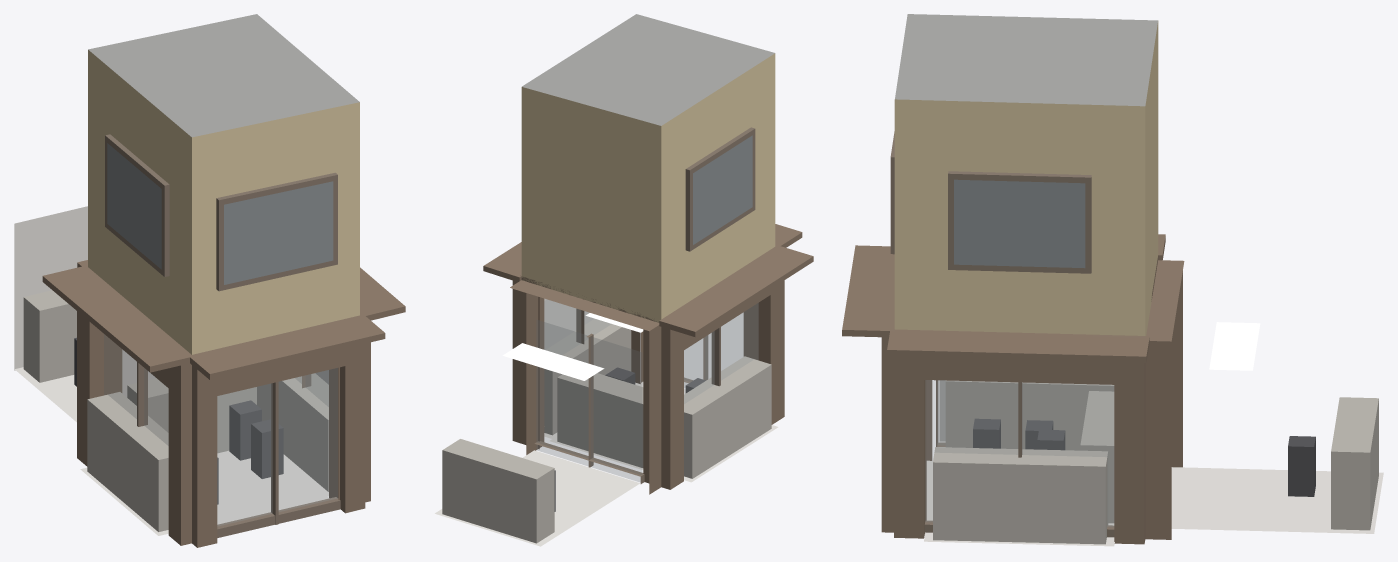
Rendered from d12-nonbei-w138670868-row.glb.
The picture shows the model from 3 angles, left to right: view 1: azimuth 30°, elevation 25°; view 2: azimuth 150°, elevation 25°; view 3: azimuth 270°, elevation 25°; orthographic projection. The views are drawn at different scales.
Parts seen in each view (by area): view 1: INFERRED_facade.001, INFERRED_ground.001; view 2: INFERRED_facade.001, INFERRED_ground.001; view 3: INFERRED_facade.001, INFERRED_ground.001.
Part boxes in pixels (bbox=[...]): INFERRED_facade.001: bbox=[14, 14, 405, 547]; INFERRED_ground.001: bbox=[104, 334, 337, 525]; INFERRED_facade.001: bbox=[435, 14, 813, 546]; INFERRED_ground.001: bbox=[502, 300, 758, 481]; INFERRED_facade.001: bbox=[842, 14, 1383, 546]; INFERRED_ground.001: bbox=[925, 322, 1260, 526].
Size of the model in its own units: 3.7 by 5.53 by 6.19.
3 materials, 1 textured.
